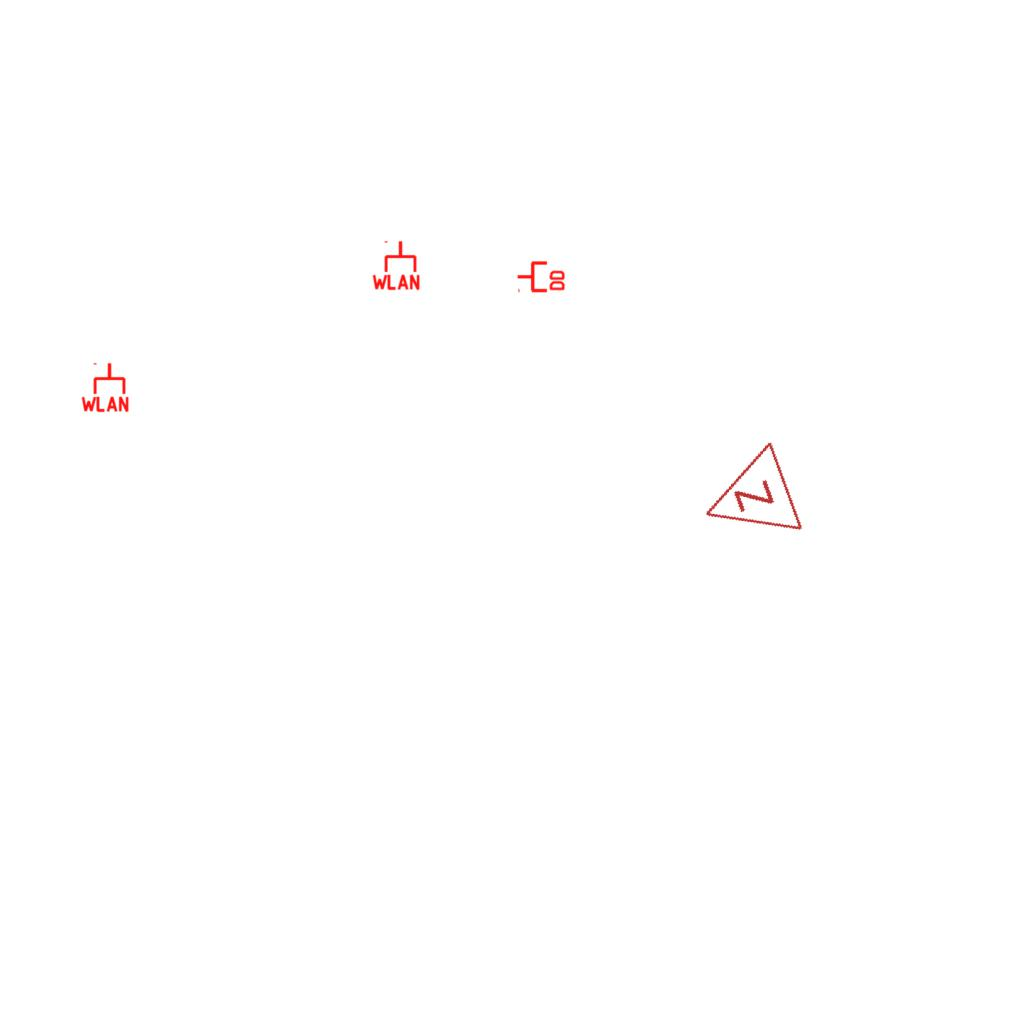Datenanschluss_zweifach: (516, 259, 567, 293)
WLAN: (79, 361, 131, 413), (370, 239, 422, 291)
Zimmersignalleuchte: (683, 437, 811, 565)
